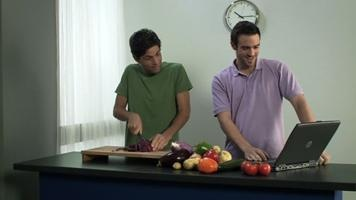person without safety: (210, 21, 292, 162), (110, 28, 193, 148)
